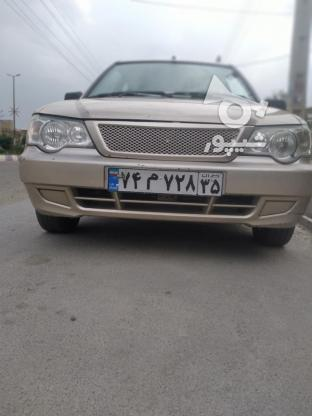car: (105, 166, 224, 194)
